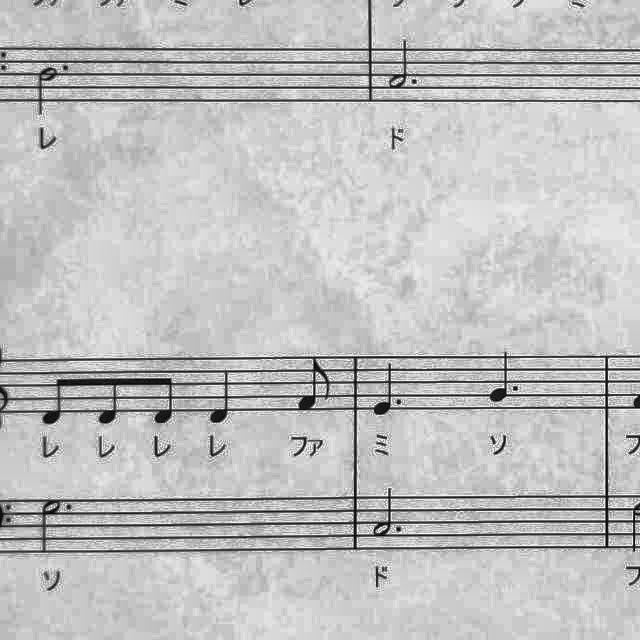Eighth-note: (290, 352, 334, 416), (36, 369, 72, 431), (91, 370, 125, 430), (147, 368, 181, 428)
Half-dot: (38, 497, 78, 559), (34, 60, 76, 116), (366, 486, 406, 542), (387, 40, 425, 96)
Quarter-dot: (484, 342, 524, 406), (366, 358, 406, 418)
Quarter-note: (204, 370, 240, 430)
